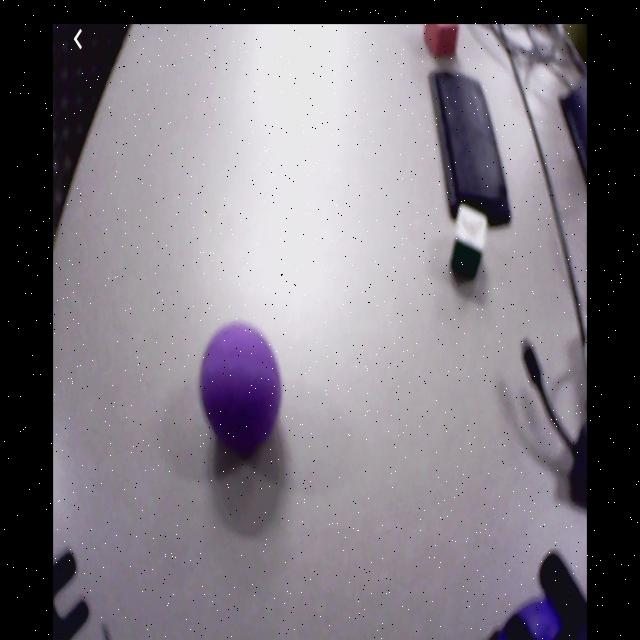ball: (202, 325, 281, 448), (500, 602, 587, 640)
